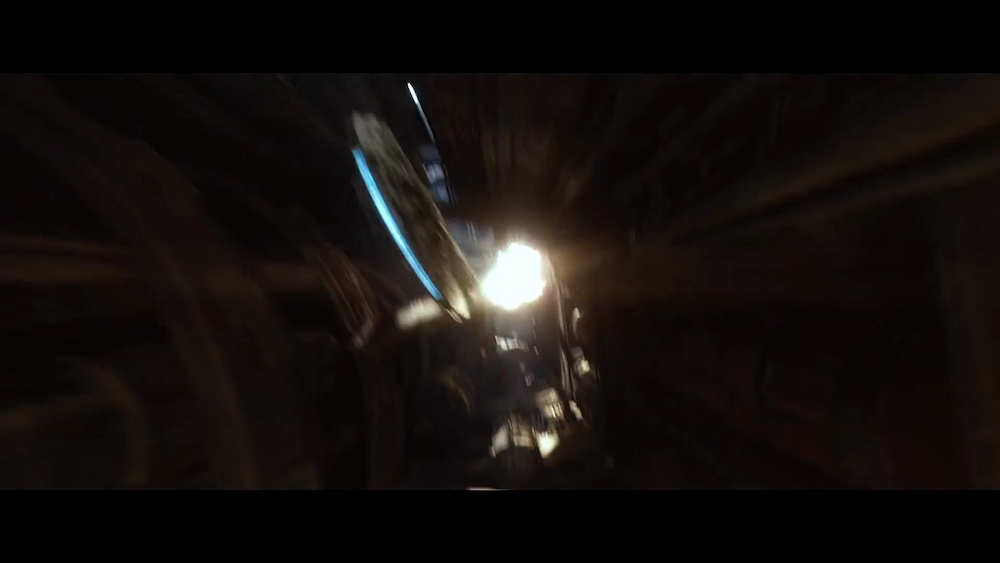Millennium Falcon: (337, 105, 480, 328)
